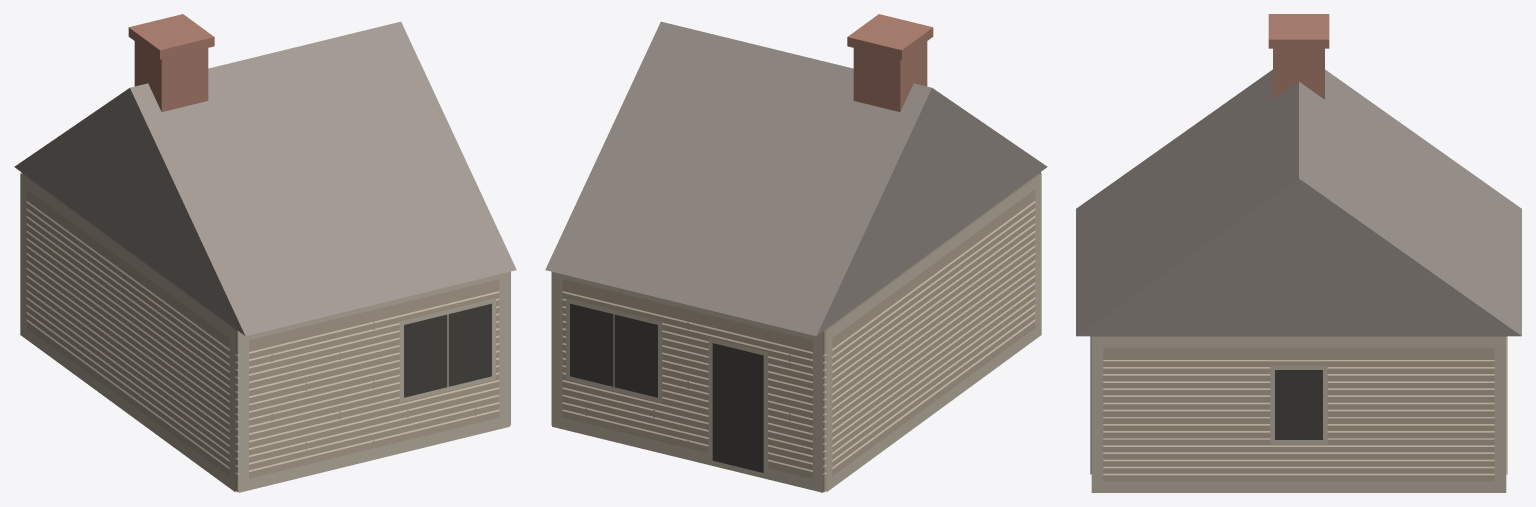
Rendered from inf_artisan_dwelling_west_a__inferred_1835.glb.
3 views of the same model, side by side, from view 1: azimuth 30°, elevation 25°; view 2: azimuth 150°, elevation 25°; view 3: azimuth 270°, elevation 25° (orthographic). The views are drawn at different scales.
Visible parts, largest first — view 1: inf_artisan_dwelling_west_a__inferred_1835; view 2: inf_artisan_dwelling_west_a__inferred_1835; view 3: inf_artisan_dwelling_west_a__inferred_1835.
Part boxes in pixels (left/top/right/bottom): inf_artisan_dwelling_west_a__inferred_1835: left=14, top=14, right=516, bottom=492; inf_artisan_dwelling_west_a__inferred_1835: left=545, top=14, right=1047, bottom=492; inf_artisan_dwelling_west_a__inferred_1835: left=1076, top=14, right=1521, bottom=492.
Size of the model in its own units: 4.96 by 6.37 by 7.21.
